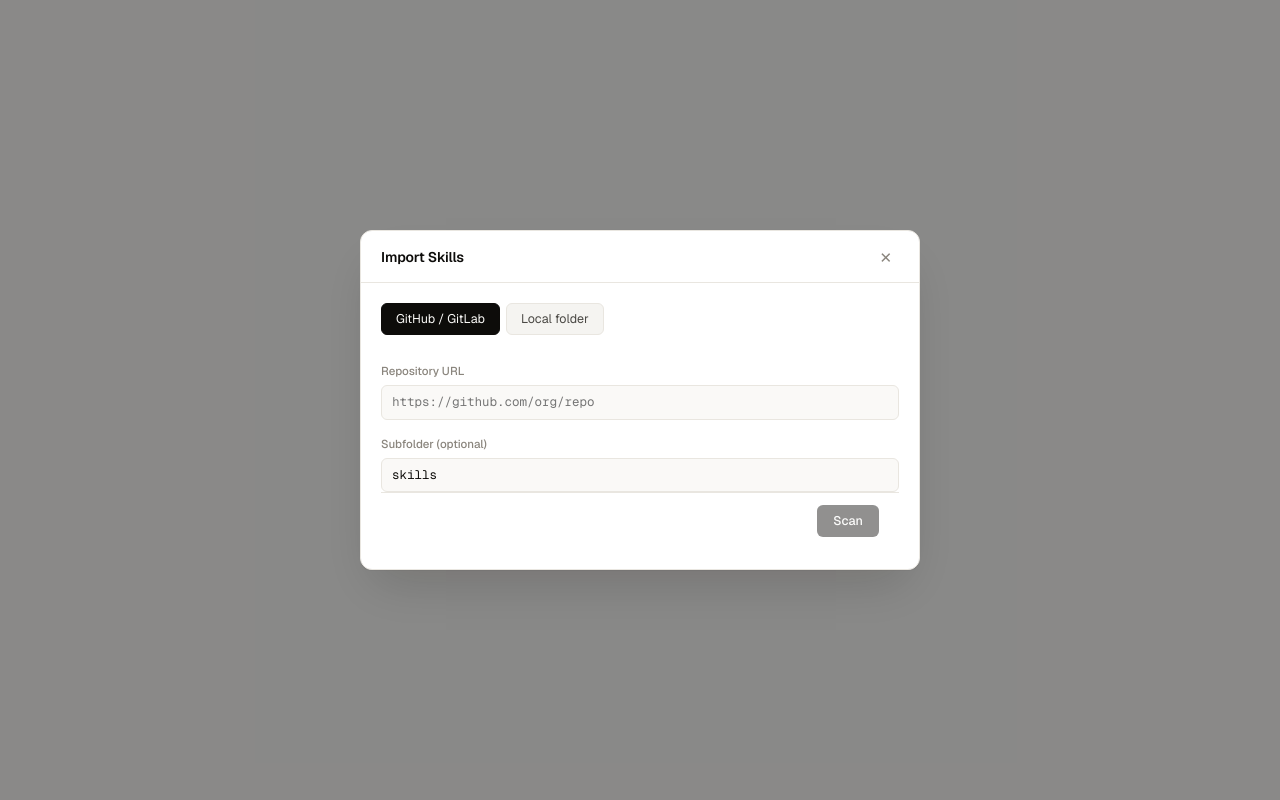
ImportSkillsModal — Step 1 › switches to local tab when Local folder is selected
Click the button with test id "source-local". click: [555, 319]
box: top-left (506, 303), bottom-right (604, 335)
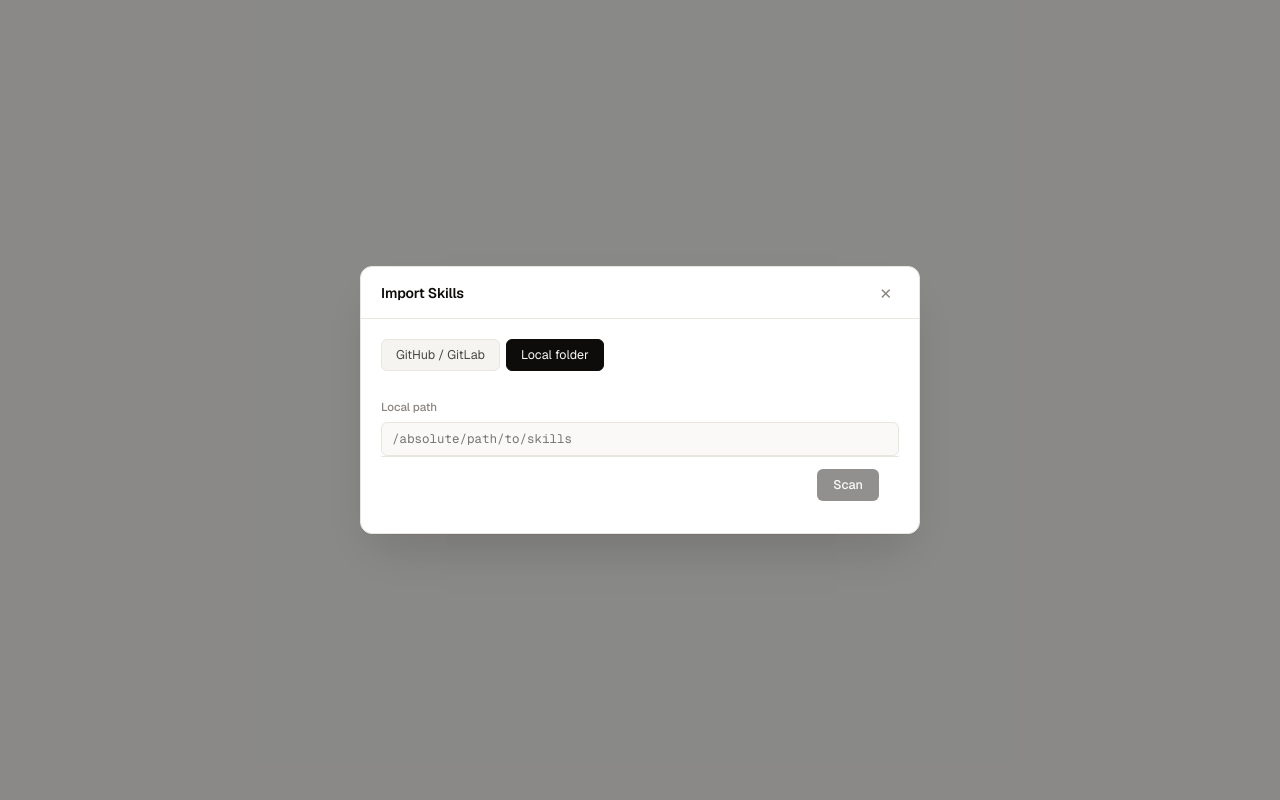
Expected: the field with test id "local-path-input" is shown, top-left (381, 422), bottom-right (899, 456)
